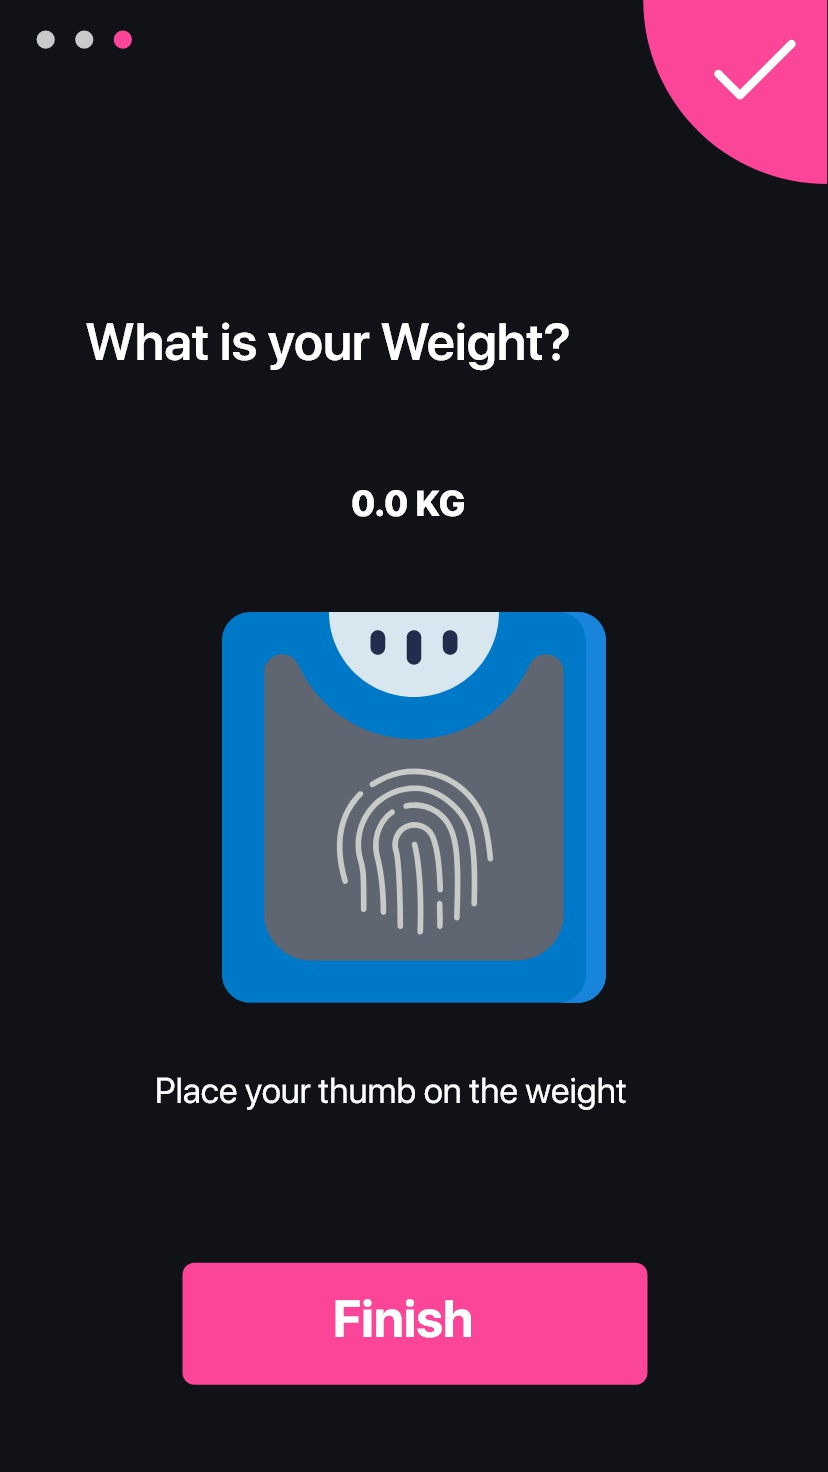Icon: (713, 40, 797, 102)
Image: (222, 612, 607, 1004)
PageIndicator: (36, 30, 134, 51)
Text: (86, 321, 570, 372), (157, 1076, 627, 1111), (351, 490, 465, 519)
TextButton: (183, 1262, 649, 1386)
